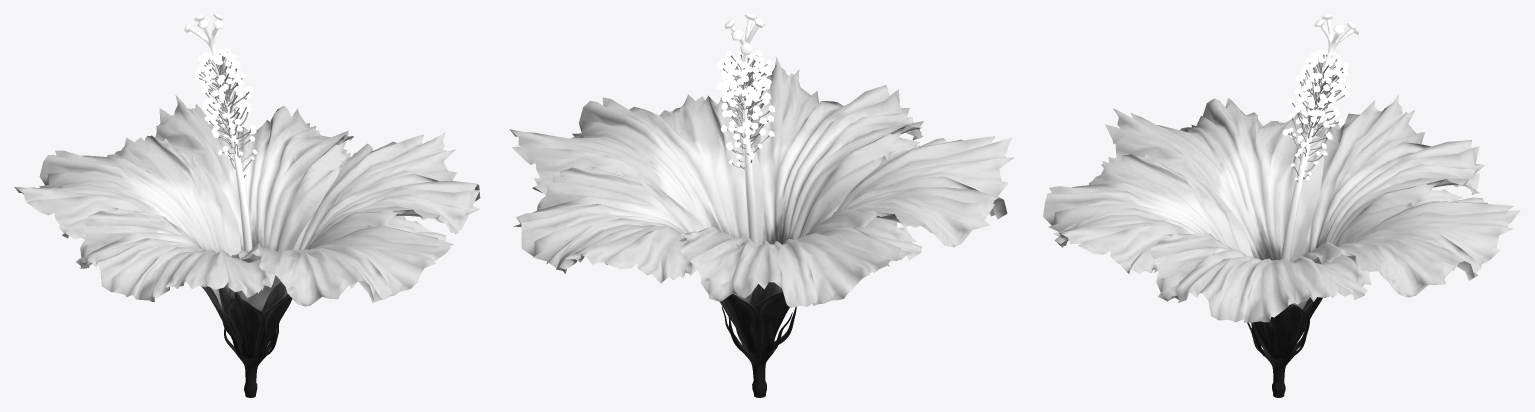
The model's file is hibiscus.gltf.
3 renders of one model, left to right at view 1: azimuth 30°, elevation 25°; view 2: azimuth 150°, elevation 25°; view 3: azimuth 270°, elevation 25°, orthographic. The views are drawn at different scales.
Parts seen in each view (by area): view 1: hibiscus4; view 2: hibiscus4; view 3: hibiscus4.
Part boxes in pixels (x1,y1,x2,y2): hibiscus4: [14, 14, 480, 397]; hibiscus4: [509, 14, 1013, 397]; hibiscus4: [1043, 14, 1520, 397].
Bounding box in the file's own units: 0.2232 × 0.1933 × 0.226.
Materials: 1 (1 with a texture image).
